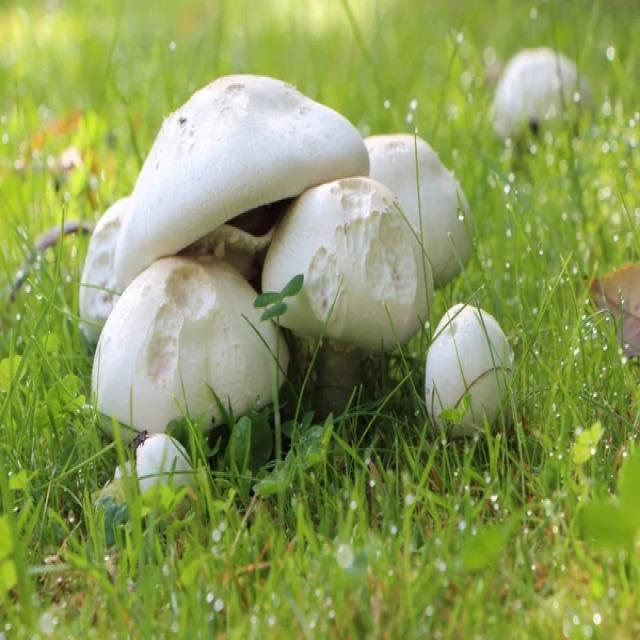field-mushroom: (114, 75, 370, 294), (92, 258, 289, 478), (261, 178, 431, 422)
